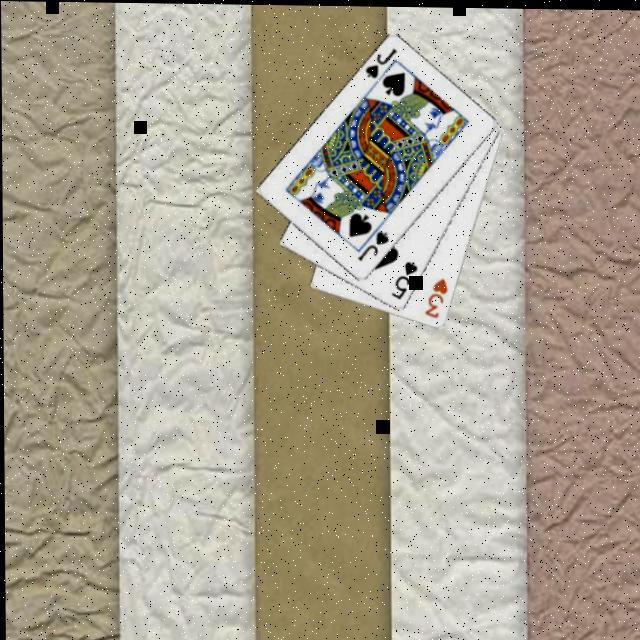3H: (418, 272, 448, 318)
5S: (386, 256, 418, 300)
JS: (360, 42, 398, 79), (352, 226, 389, 262)
